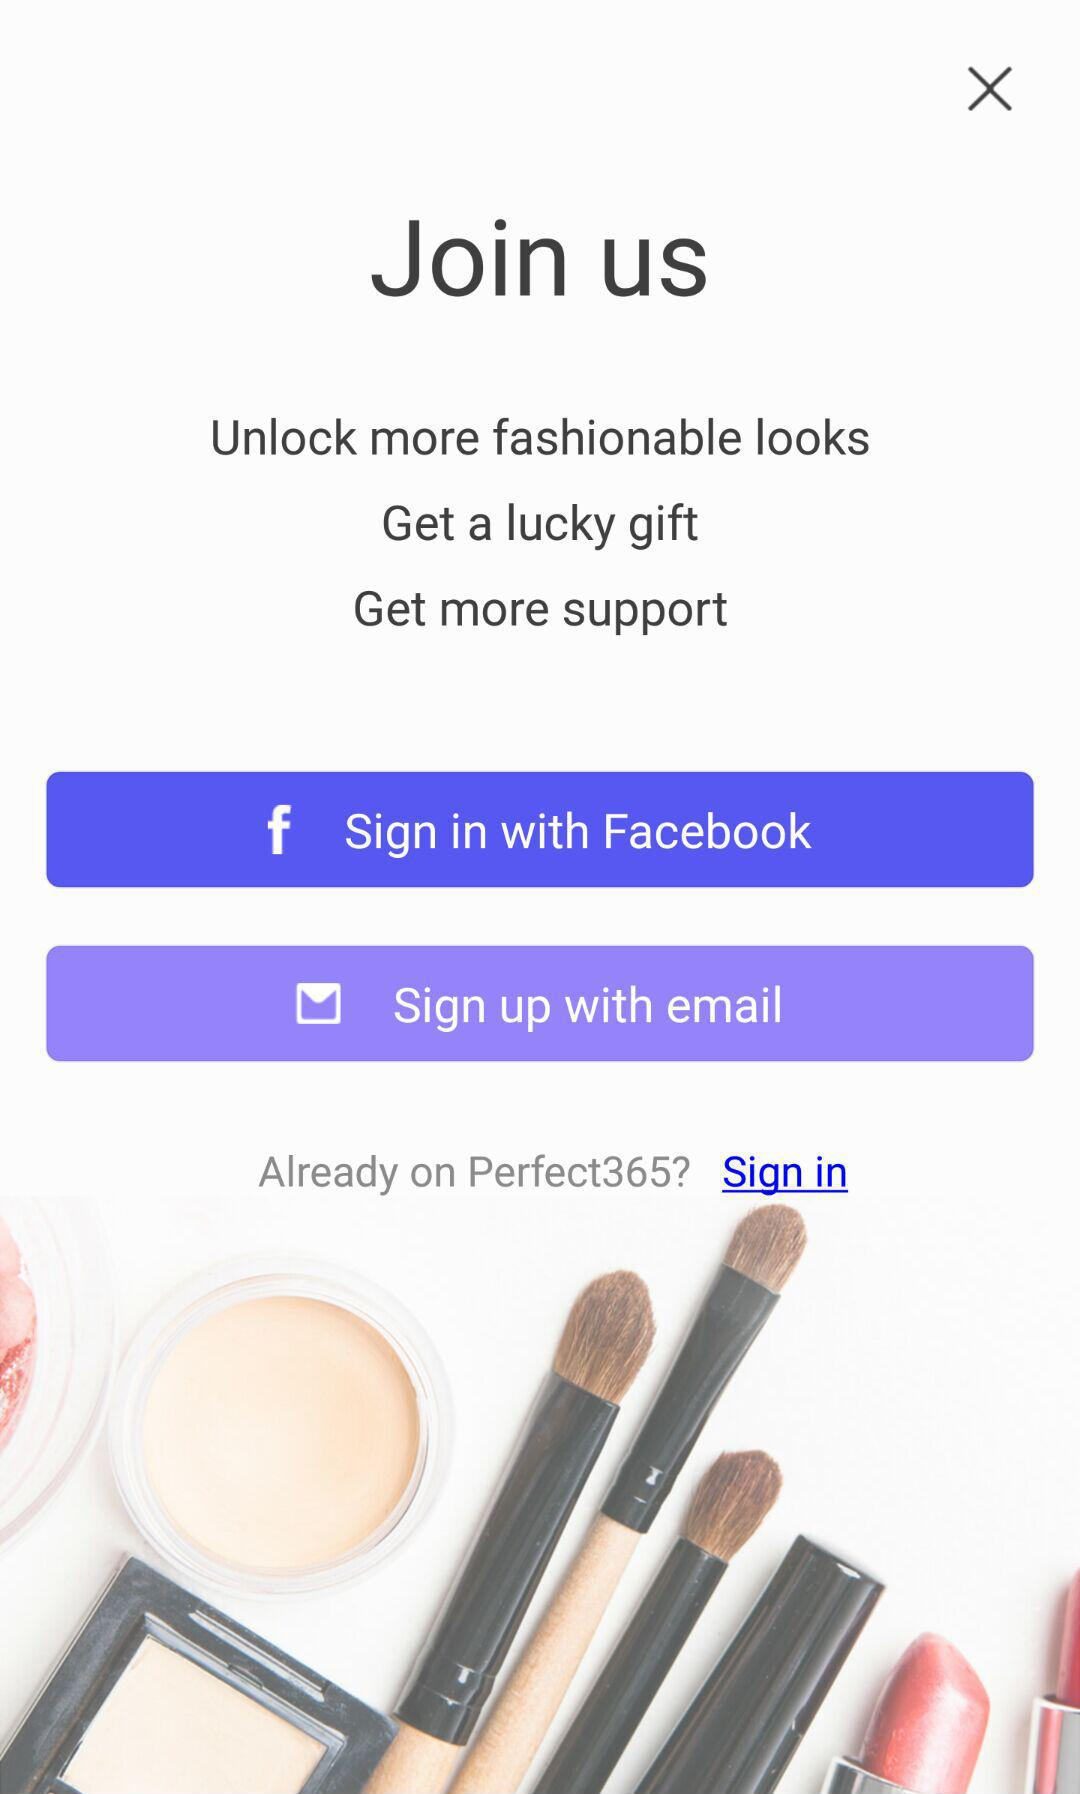BackgroundImage: (1, 1, 1080, 1794)
Icon: (967, 67, 1013, 113)
Image: (1, 1202, 1080, 1794)
Text: (372, 219, 708, 299), (213, 418, 870, 457), (258, 1155, 691, 1197), (354, 589, 729, 637), (383, 502, 700, 552), (721, 1155, 849, 1197)
TextButton: (47, 944, 1035, 1062), (47, 771, 1034, 889)
